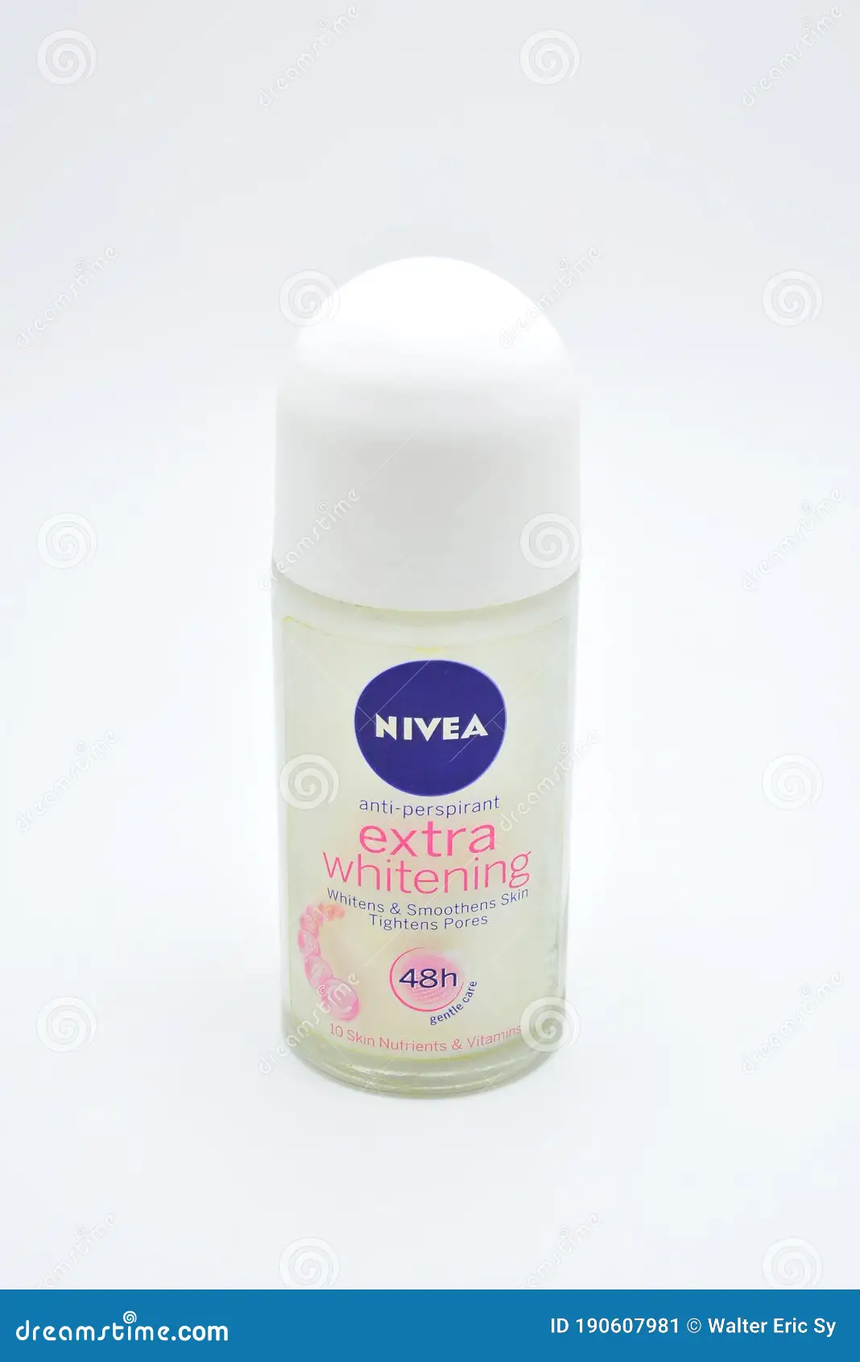toxic_waste: (260, 300, 599, 1091)
